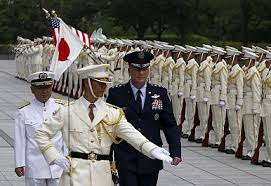Japanese Flag: (48, 19, 83, 82)
